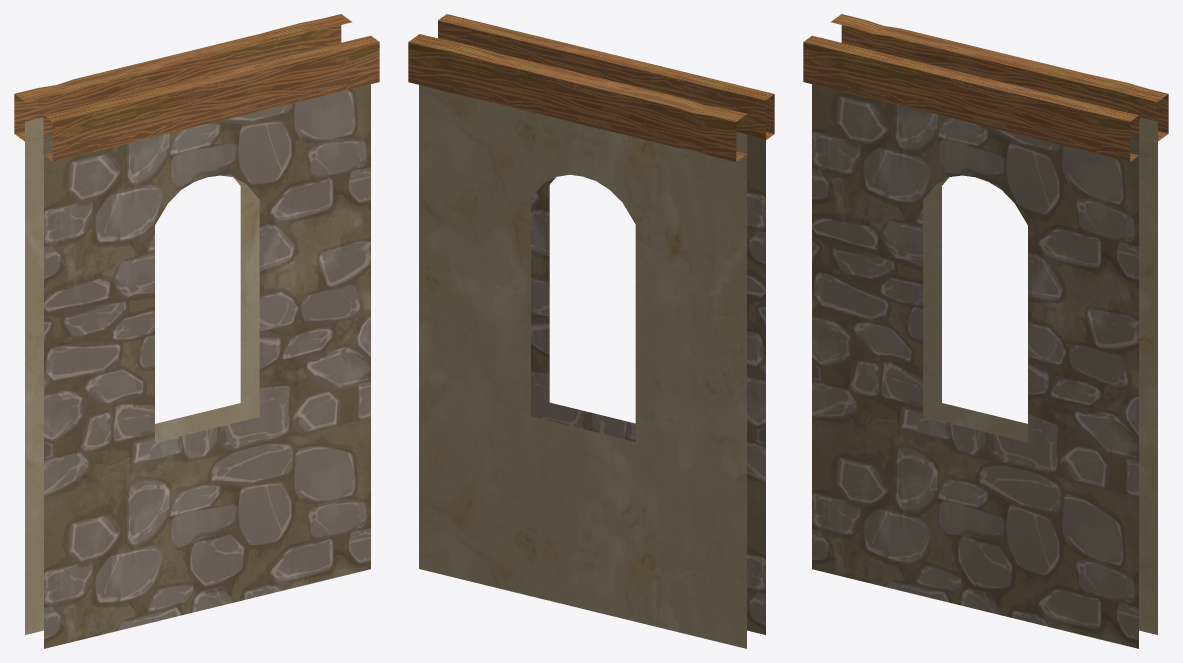
File: Wall_UnevenBrick_Window_Thin_Round.gltf
The picture shows the model from 3 angles, left to right: view 1: azimuth 30°, elevation 25°; view 2: azimuth 150°, elevation 25°; view 3: azimuth 330°, elevation 25°; orthographic projection.
Parts seen in each view (by area): view 1: Wall_UnevenBrick_Window_Thin_Round; view 2: Wall_UnevenBrick_Window_Thin_Round; view 3: Wall_UnevenBrick_Window_Thin_Round.
Boxes of the visible parts, left/top/right/bottom form: Wall_UnevenBrick_Window_Thin_Round: left=14, top=14, right=379, bottom=648; Wall_UnevenBrick_Window_Thin_Round: left=408, top=14, right=774, bottom=648; Wall_UnevenBrick_Window_Thin_Round: left=803, top=14, right=1168, bottom=648.
Bounding box in the file's own units: 2 × 3.12 × 0.4065.
Materials: 3 (3 with a texture image).
